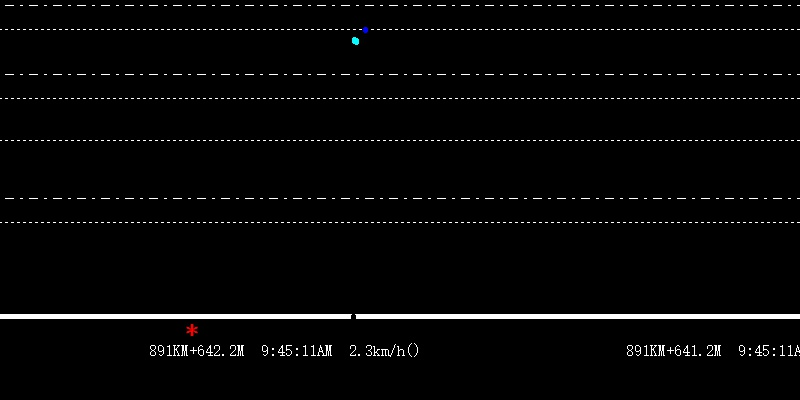face_1: (359, 24, 371, 35)
face_down: (349, 26, 363, 49)
star: (184, 321, 201, 341)
